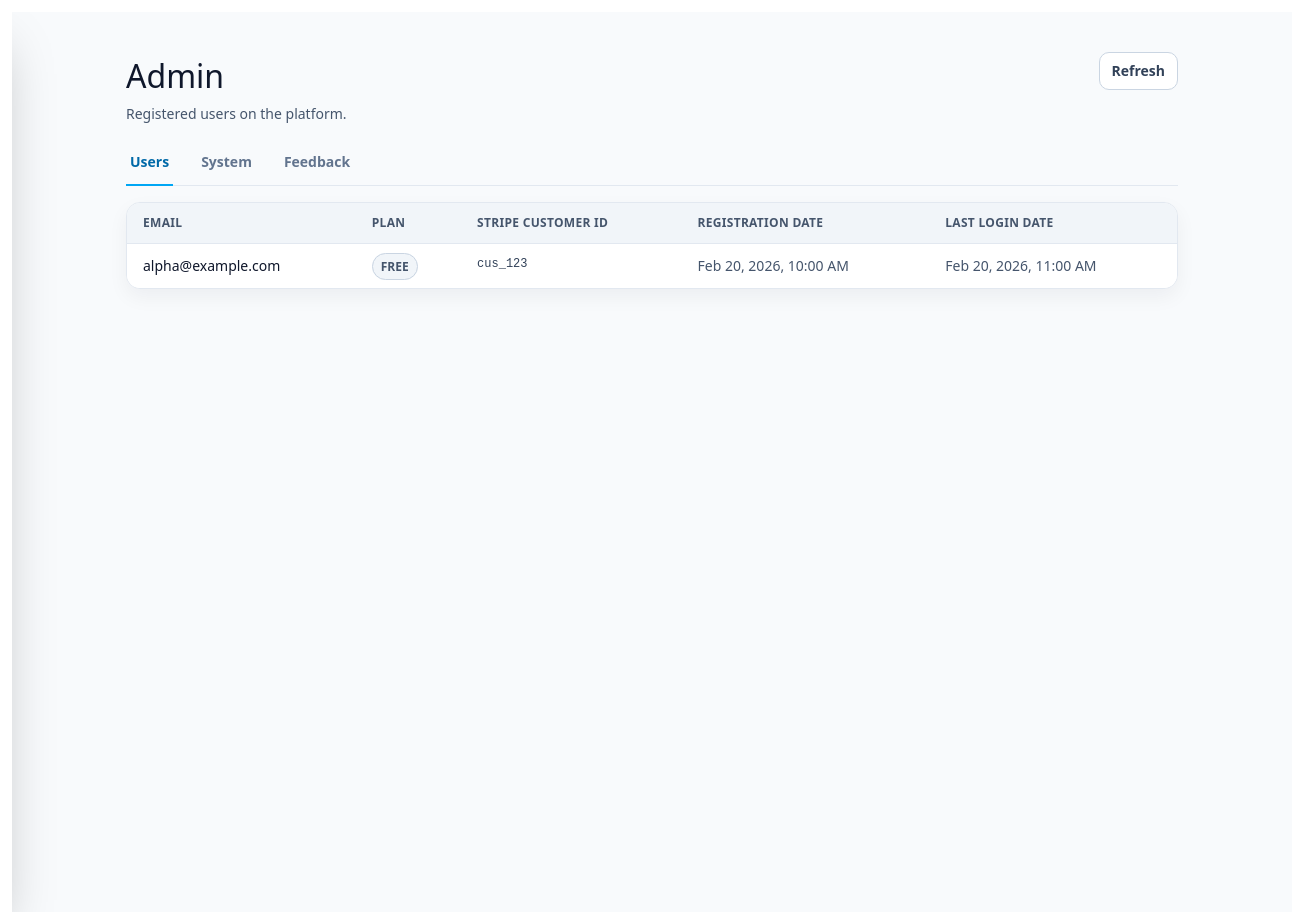
Test: AdminPage drawer actions › uses explicit save flow for plan changes
This screenshot has width=1304, height=912.
Click the button with aria-label "Open user details for alpha@example.com" at (212, 266), box [127, 244, 1177, 288]
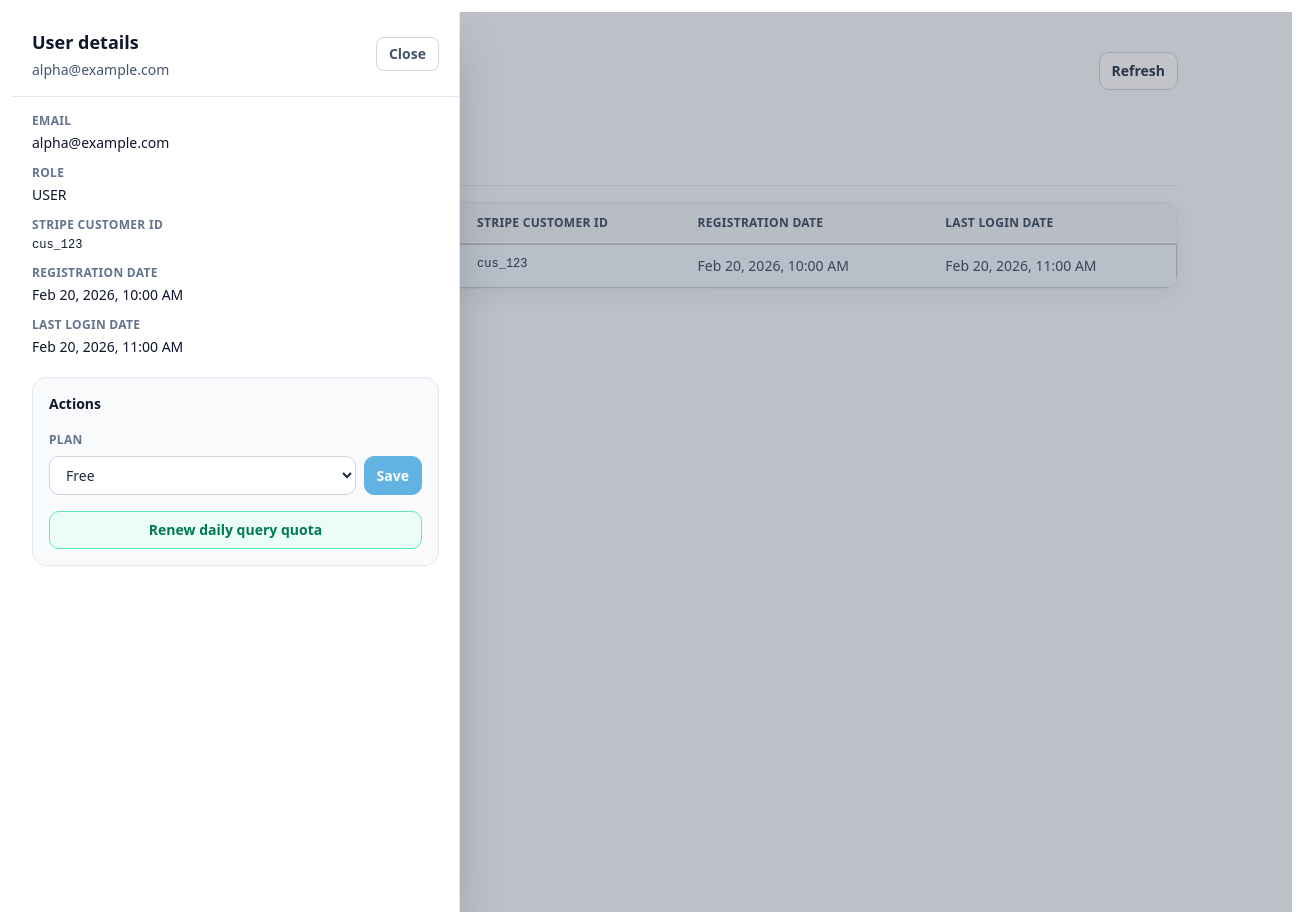
Expected: the heading "User details" is shown, [32, 30, 139, 54]
Select "Pro" in the dropdown labelled "Plan" at (202, 476), box [49, 456, 356, 495]
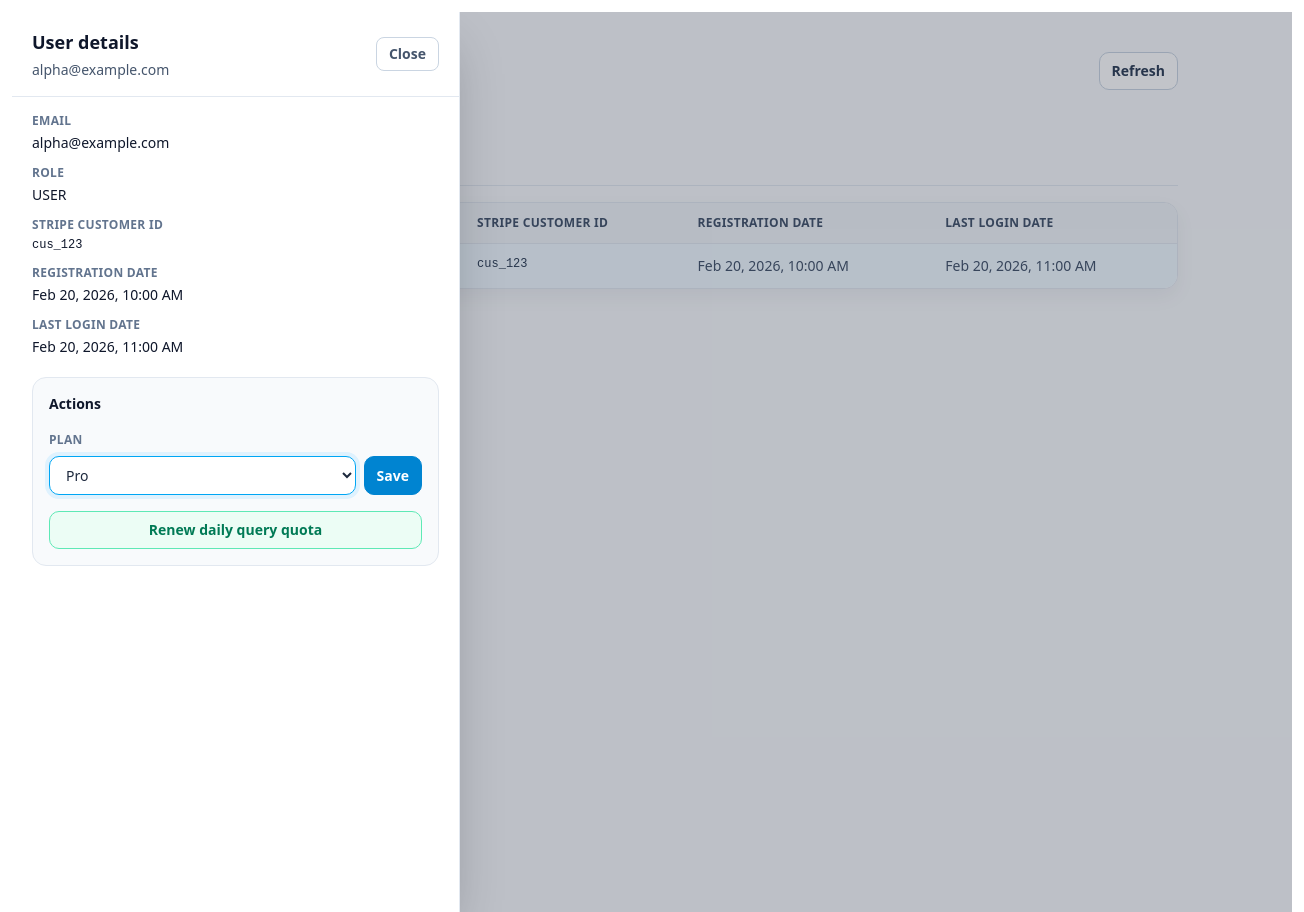
Click the button "Save" at (393, 476), box [364, 456, 422, 495]
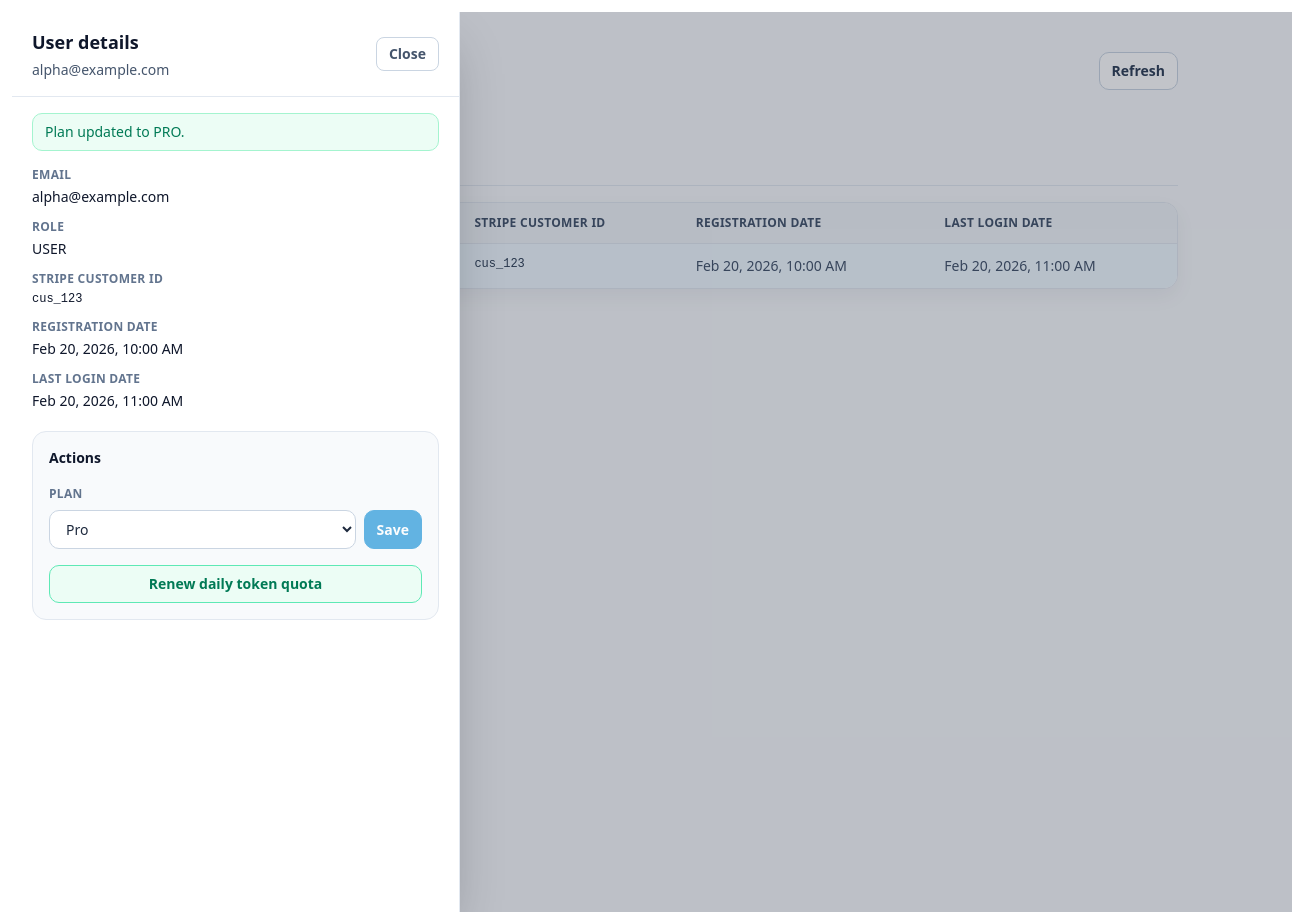
Expected: the text "Plan updated to PRO." is shown, [32, 113, 439, 151]
